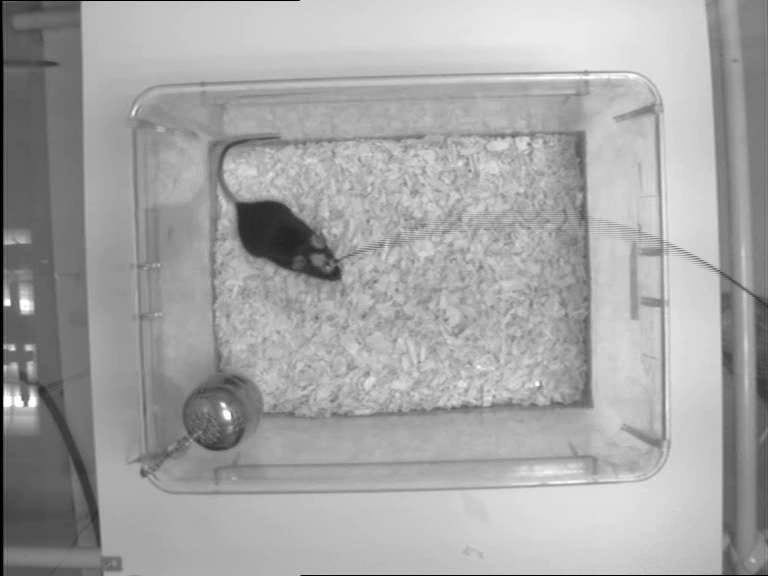mice: (214, 135, 343, 287)
